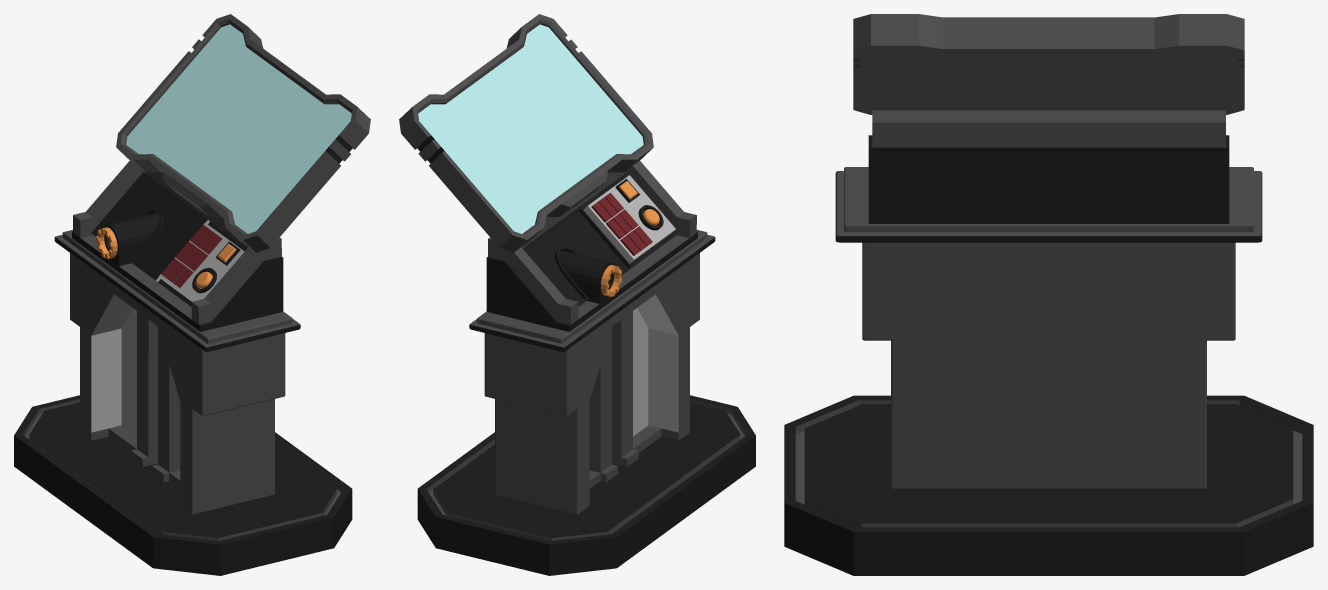
Rendered from terminal2.fbx.
3 views of the same model, side by side, from view 1: azimuth 30°, elevation 25°; view 2: azimuth 150°, elevation 25°; view 3: azimuth 270°, elevation 25° (orthographic). The views are drawn at different scales.
Visible parts, largest first — view 1: terminal2; view 2: terminal2; view 3: terminal2.
Part boxes in pixels (box(x1,y1,x2,y2)): terminal2: box(14, 14, 370, 575); terminal2: box(399, 14, 755, 575); terminal2: box(784, 14, 1313, 575).
Bounding box in the file's own units: 2.12 × 3.09 × 3.68.
